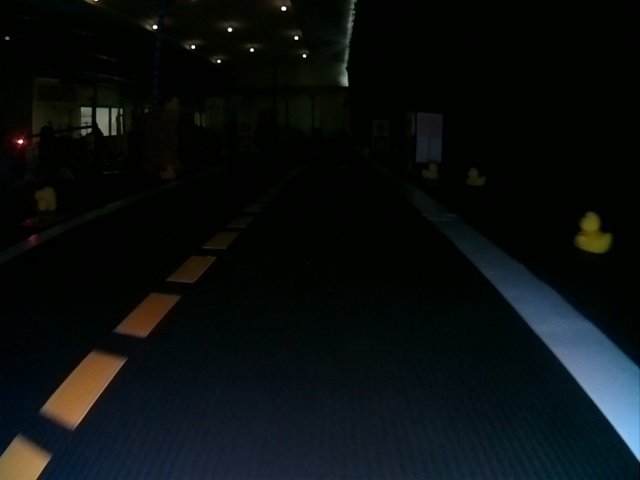Duckie: (575, 212, 611, 254), (36, 186, 56, 211), (467, 171, 482, 186), (424, 163, 438, 179), (163, 165, 174, 179)
